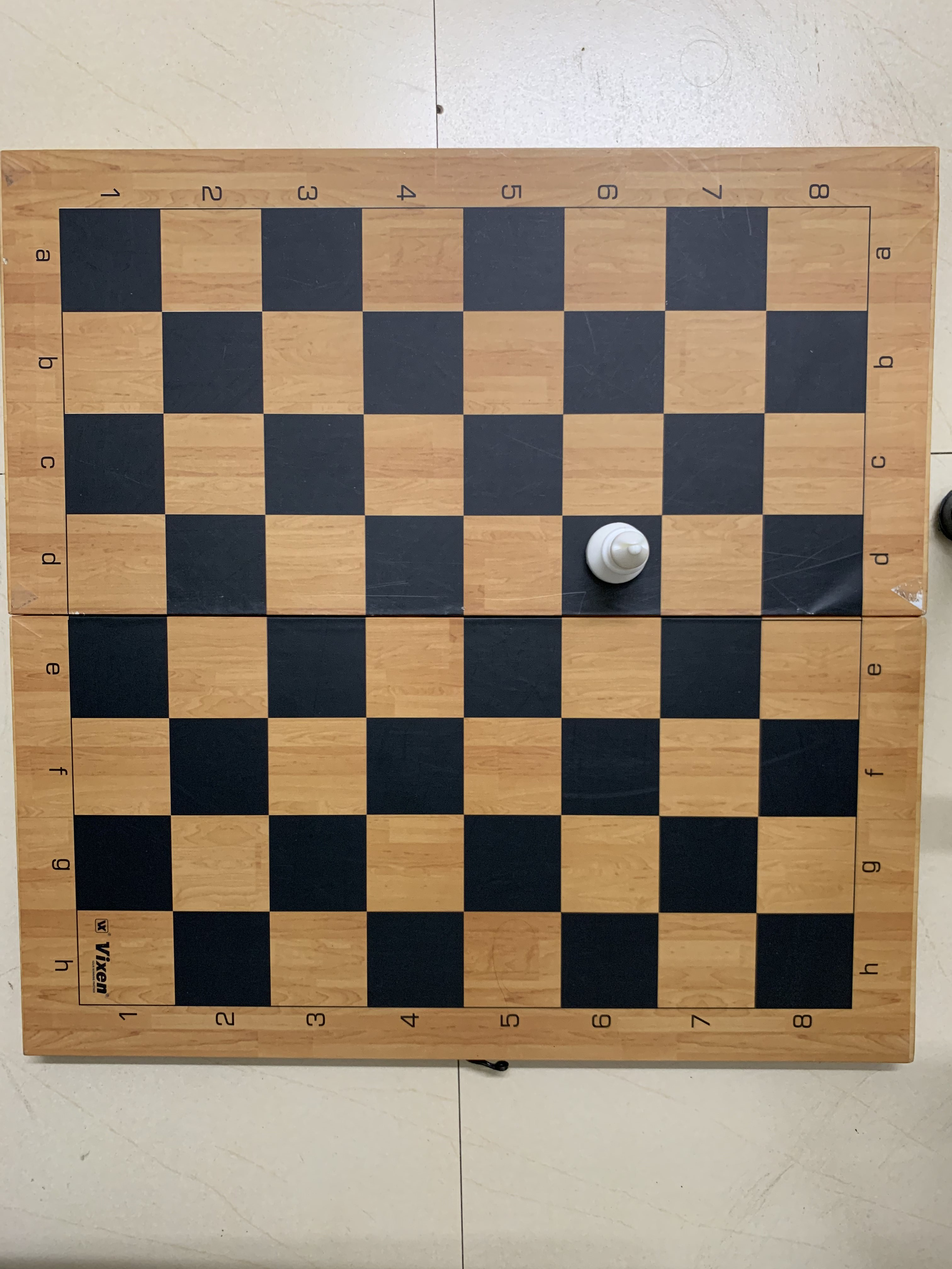white_bishop: (565, 518, 662, 618)
